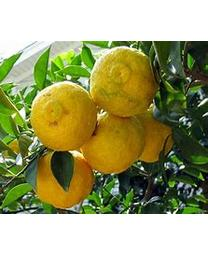lemon: (90, 48, 158, 119), (31, 81, 98, 152), (81, 111, 146, 175), (31, 152, 94, 208)
